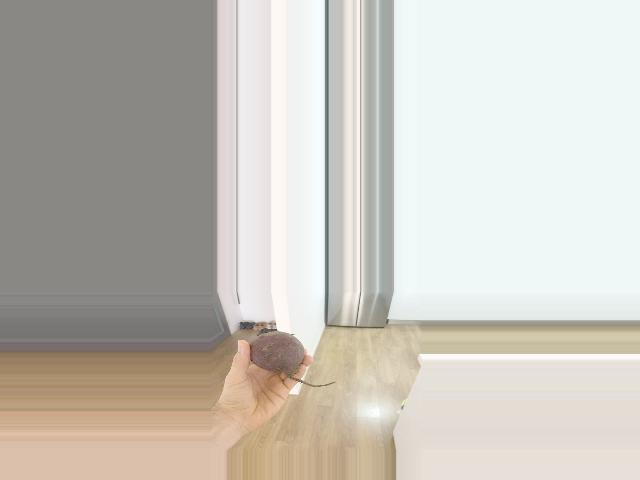beet: (250, 328, 336, 387)
